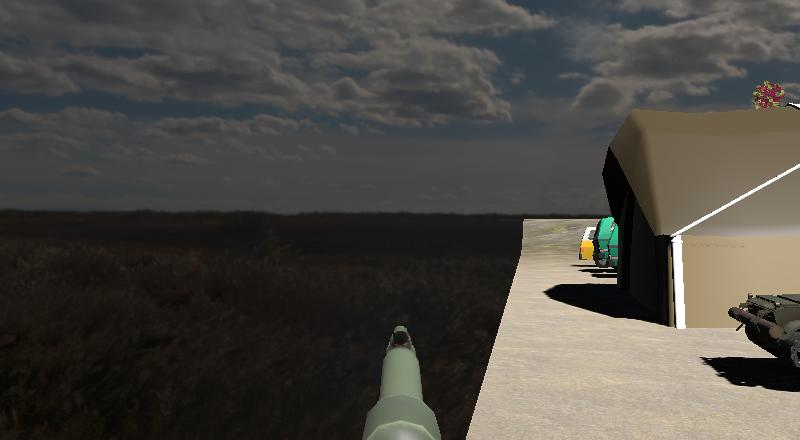Tank: (723, 266, 800, 394)
car: (593, 214, 619, 269), (577, 223, 599, 266)
